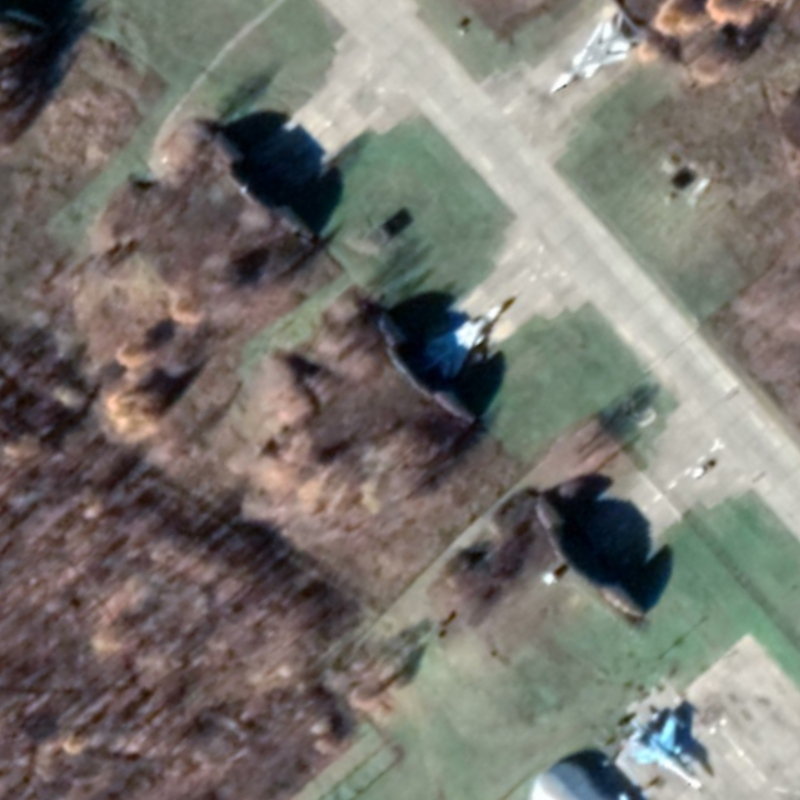A19: (627, 711, 705, 792)
A20: (548, 18, 633, 96), (423, 302, 503, 381)
